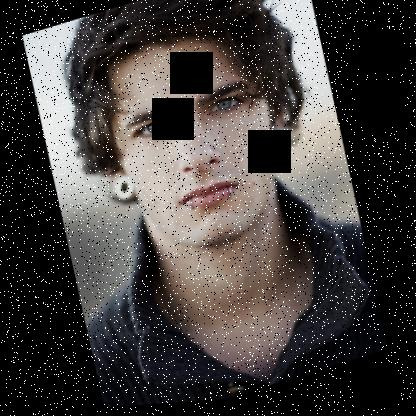Male: (76, 5, 322, 277)
